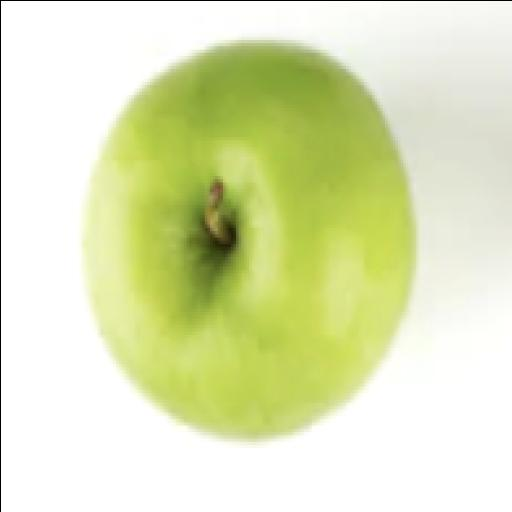apple: (85, 44, 413, 438)
